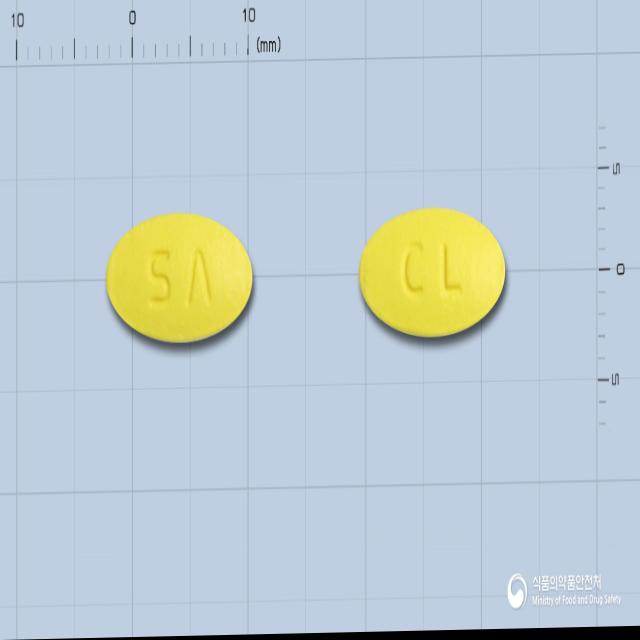CLARIUM: (103, 209, 256, 350)
